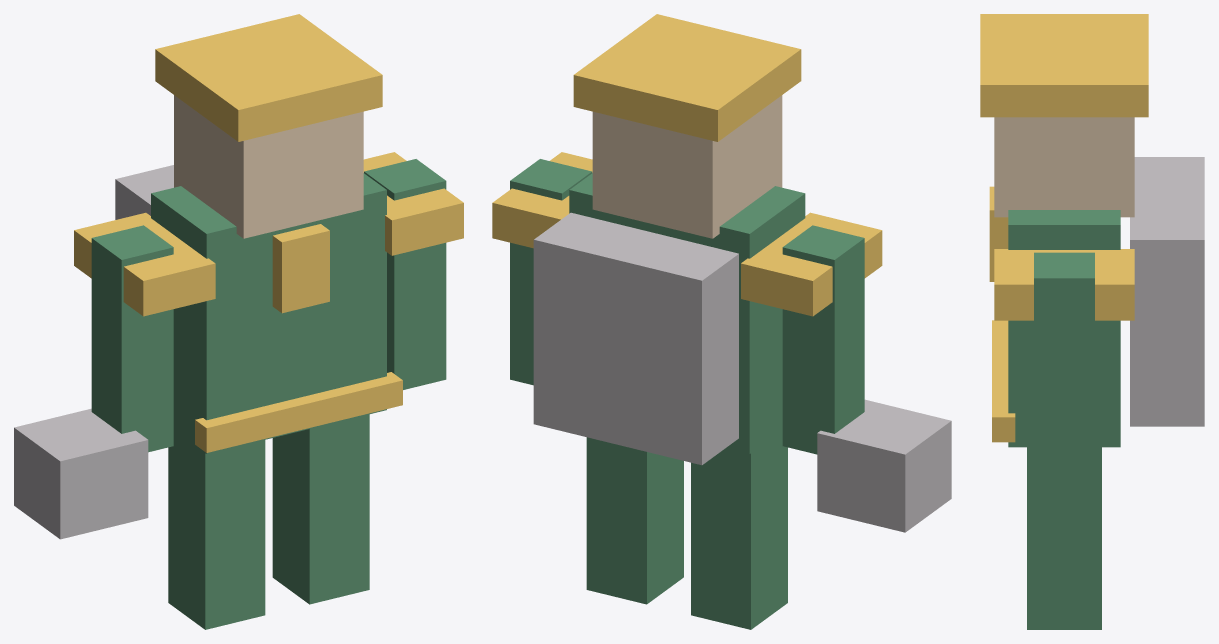
File: 01_tamsin_gearmantle_custodian_from_hazard.glb
3 renders of one model, left to right at view 1: azimuth 30°, elevation 25°; view 2: azimuth 150°, elevation 25°; view 3: azimuth 270°, elevation 25°, orthographic.
Parts seen in each view (by area): view 1: Tamsin Gearmantle, Custodian from Hazard; view 2: Tamsin Gearmantle, Custodian from Hazard; view 3: Tamsin Gearmantle, Custodian from Hazard.
Boxes of the visible parts, <box> form: Tamsin Gearmantle, Custodian from Hazard: <box>14,14,463,629</box>; Tamsin Gearmantle, Custodian from Hazard: <box>492,14,951,629</box>; Tamsin Gearmantle, Custodian from Hazard: <box>980,14,1204,629</box>.
Bounding box in the file's own units: 1.09 × 1.39 × 0.5235.
